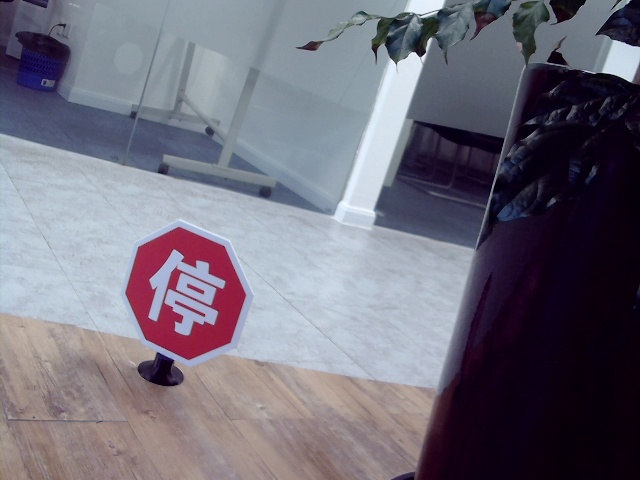stop: (147, 246, 222, 337)
